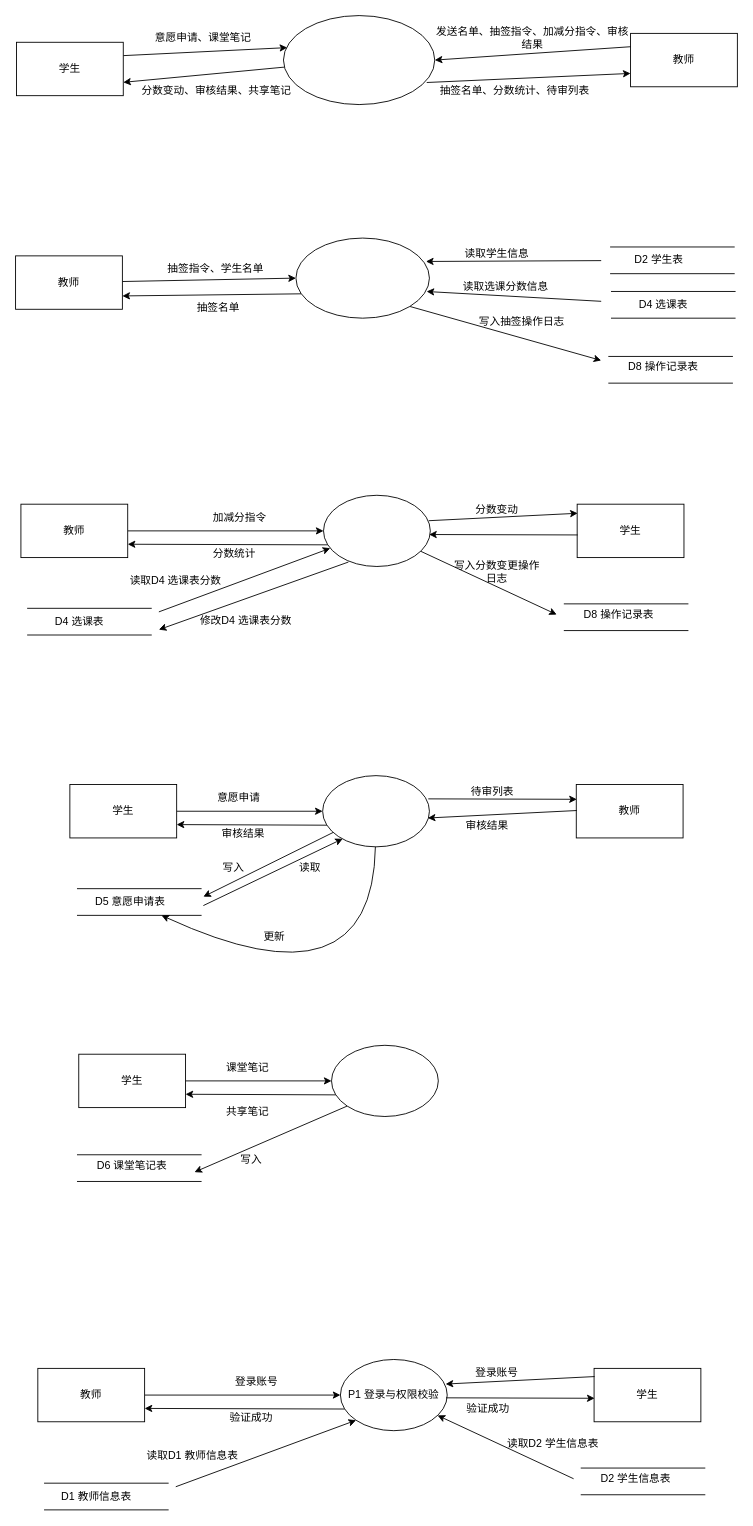
Some shapes in this 753 by 1526 pixel diagram are drawn without their labels. Each missing label, with the centre of its shape:
P2 课堂抽签处理: pixel 362 277
P3 平时分加减处理: pixel 376 530
P4 意愿申请审核处理: pixel 375 811
P5 课堂笔记共享管理: pixel 384 1080
课堂提问与平时分管理系统: pixel 359 60
